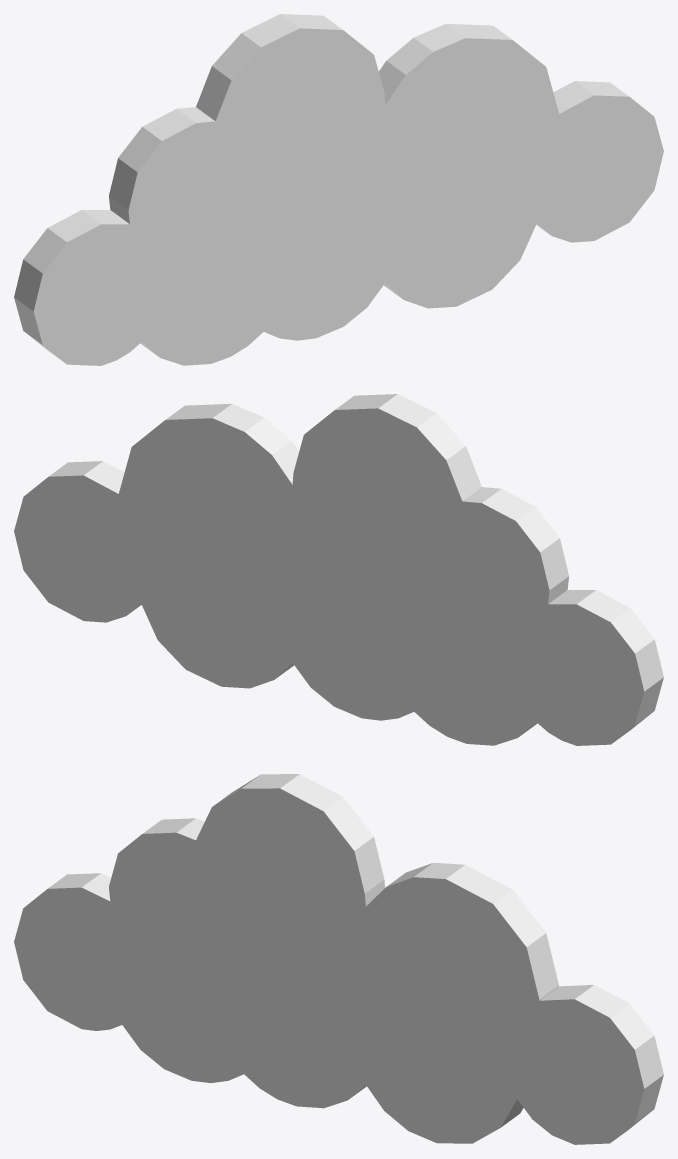
File: cartoon_cloud_1.fbx
3 views of the same model, one above another, from view 1: azimuth 30°, elevation 25°; view 2: azimuth 150°, elevation 25°; view 3: azimuth 330°, elevation 25° (orthographic).
Visible parts, largest first — view 1: cloud_71; view 2: cloud_71; view 3: cloud_71.
Part boxes in pixels (box(x1,y1,x2,y2)): cloud_71: box(14, 14, 663, 365); cloud_71: box(14, 394, 663, 745); cloud_71: box(14, 774, 663, 1144).
Bounding box in the file's own units: 370 × 178 × 20.
